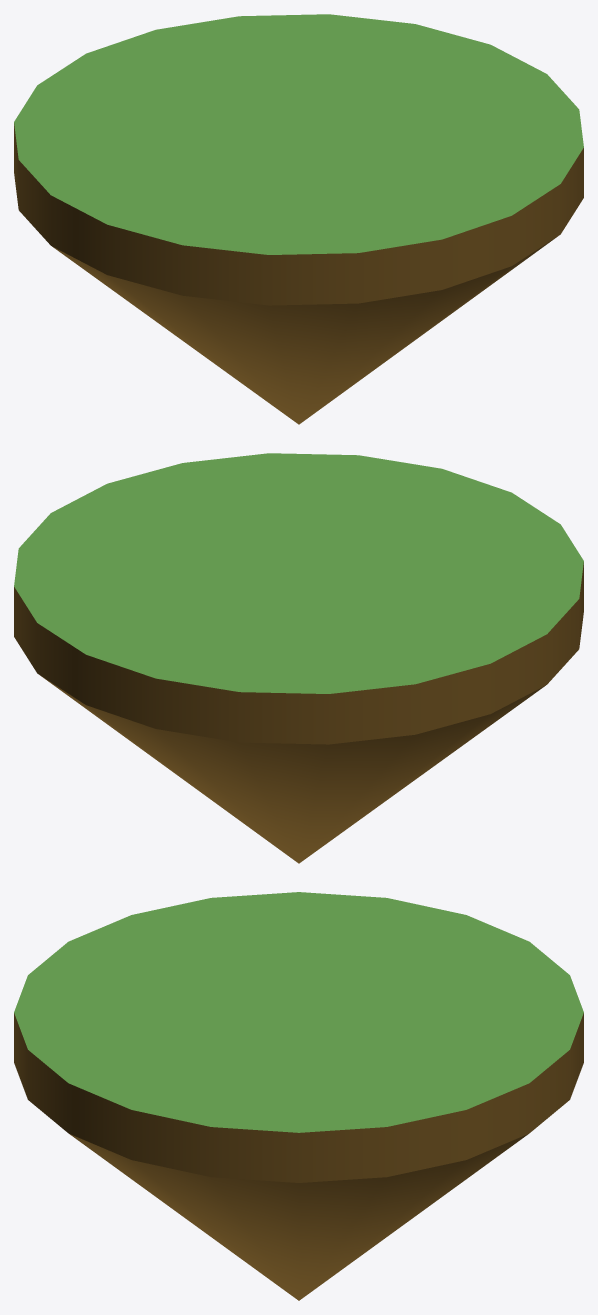
Rendered from md_golfisland.fbx.
3 views of the same model, one above another, from view 1: azimuth 30°, elevation 25°; view 2: azimuth 150°, elevation 25°; view 3: azimuth 270°, elevation 25° (orthographic).
Visible parts, largest first — view 1: pCylinder48; view 2: pCylinder48; view 3: pCylinder48.
Part boxes in pixels (x1,y1,x2,y2): pCylinder48: [14, 14, 583, 424]; pCylinder48: [14, 453, 583, 863]; pCylinder48: [14, 892, 583, 1300].
Size of the model in its own units: 5.81 by 3.24 by 5.81.
